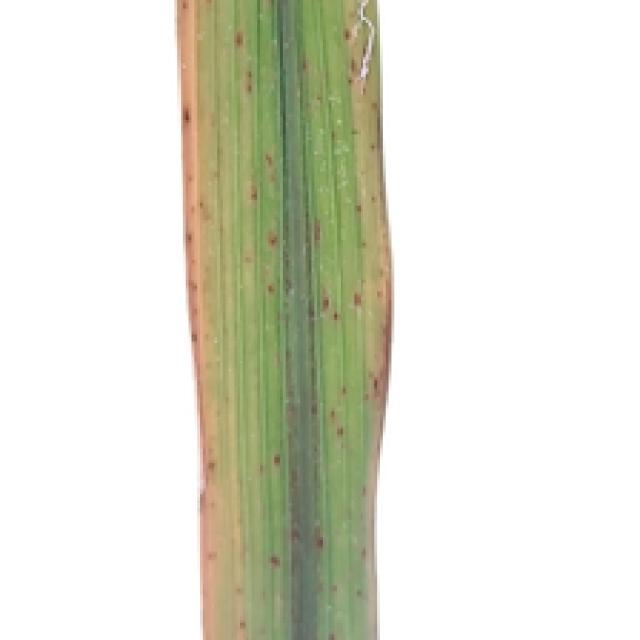Rice___Brown_Spot: (174, 0, 396, 637)
